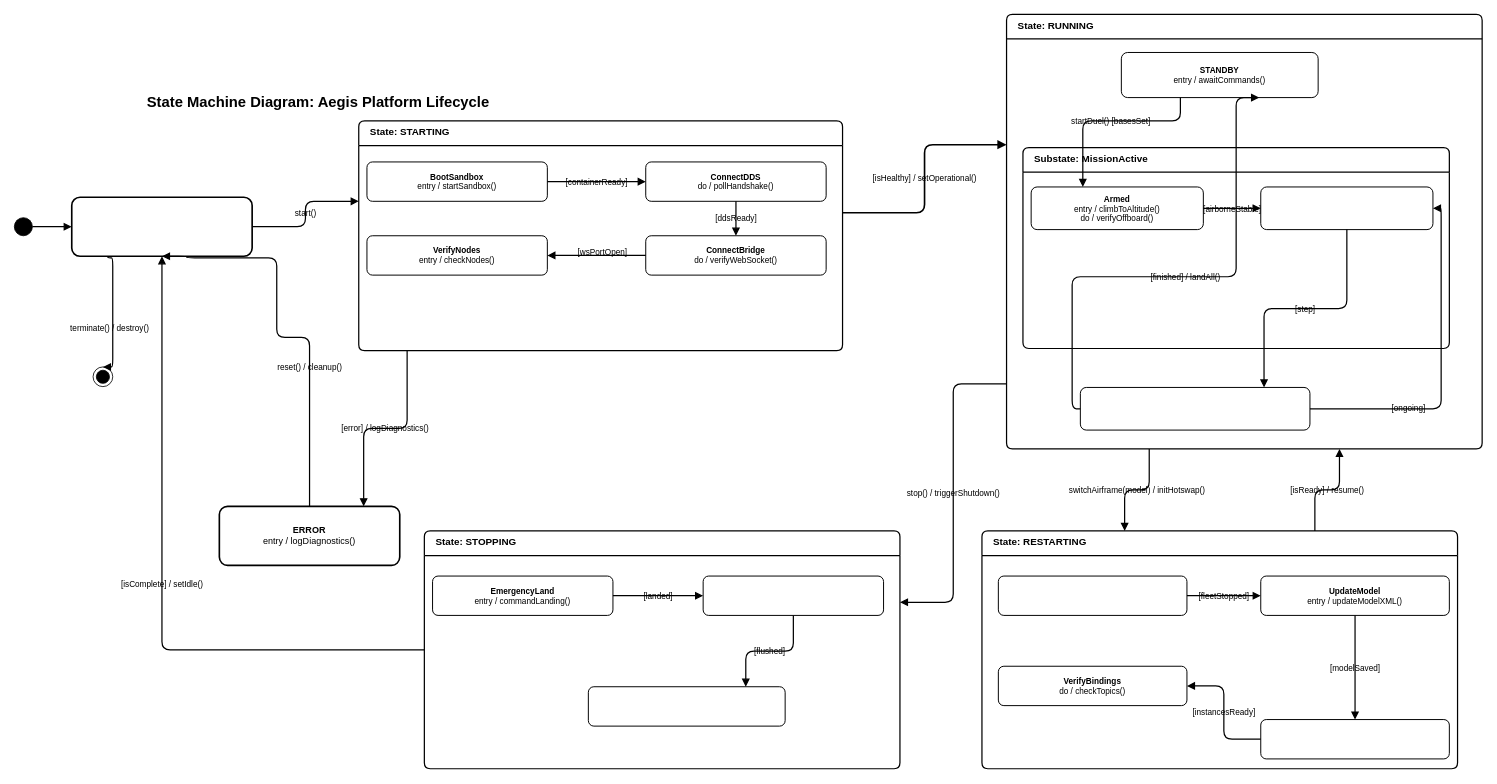
Image size: 1497x784. Some labels were removed from this diagram. The shapes that lost their labels are listed below. From the top down, each one's centre as x and y in pixels, then its label:
At (162,226): "STOPPED entry / releasePorts()".
At (1346,208): "TacticalGuidance do / executeGuidance()".
At (1194,408): "EvaluateInterception entry / checkKillRadius() do / recordTelemetry()".
At (793,595): "FlushBuffers entry / commitRecords()".
At (1092,595): "TerminateAutopilots entry / stopFleet()".
At (686,706): "TerminateSandbox entry / stopSandbox()".
At (1354,739): "SpawnFleet entry / launchInstances()".
